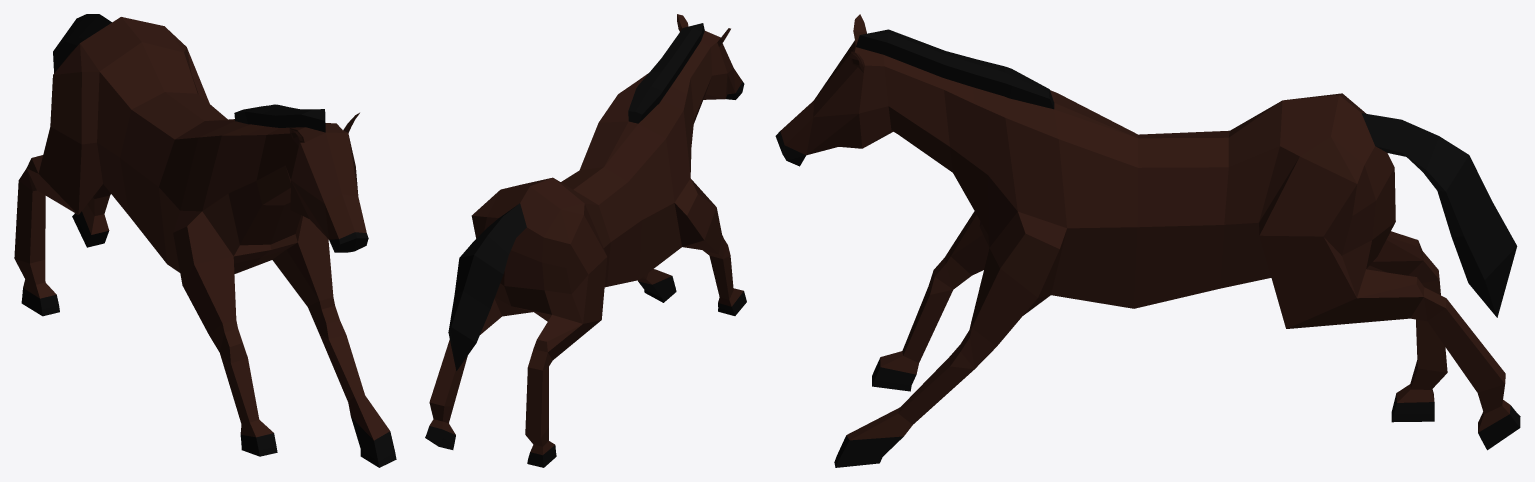
Rendered from Horse_000012.obj.
The picture shows the model from 3 angles, left to right: view 1: azimuth 30°, elevation 25°; view 2: azimuth 150°, elevation 25°; view 3: azimuth 270°, elevation 25°; orthographic projection. The views are drawn at different scales.
Parts seen in each view (by area): view 1: Horse_Cylinder; view 2: Horse_Cylinder; view 3: Horse_Cylinder.
Boxes of the visible parts, x1,y1,x2,y2 form: Horse_Cylinder: [14, 14, 396, 467]; Horse_Cylinder: [425, 14, 746, 467]; Horse_Cylinder: [775, 14, 1520, 467].
Bounding box in the file's own units: 2.69 × 6.1 × 10.09.
